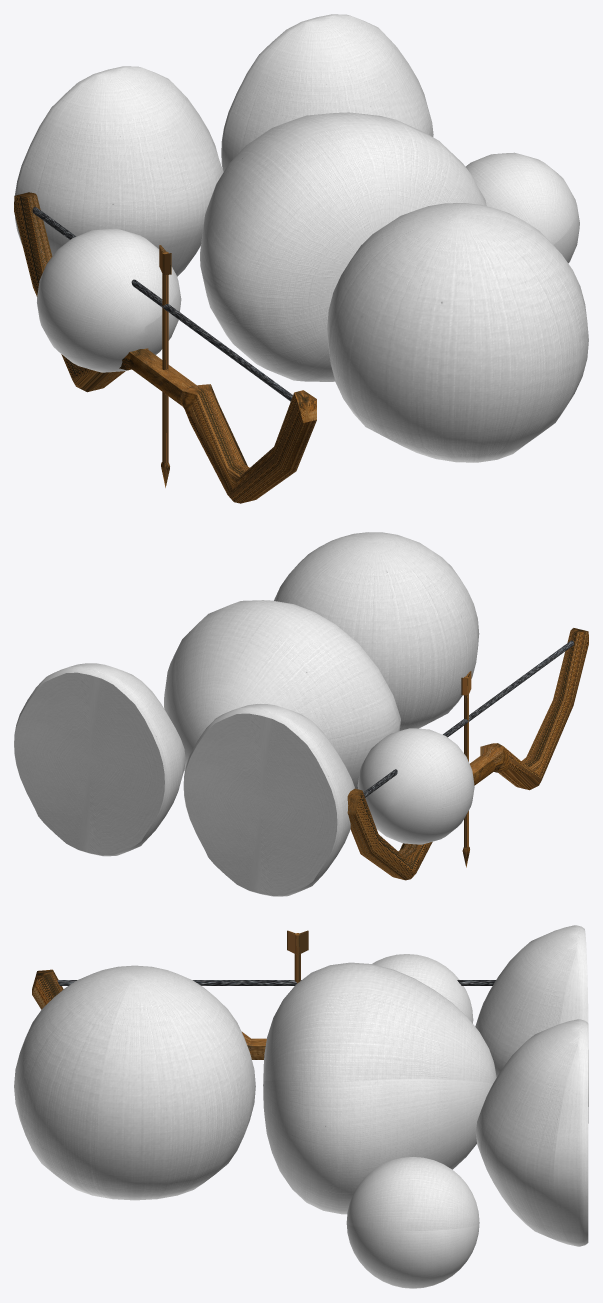
Rendered from char_bow.fbx.
The picture shows the model from 3 angles, top to bottom: view 1: azimuth 30°, elevation 25°; view 2: azimuth 150°, elevation 25°; view 3: azimuth 270°, elevation 25°; orthographic projection. The views are drawn at different scales.
Visible parts, largest first — view 1: polySurface2, polySurface1, polySurface4, polySurface5, polySurface3, Bow:Bow, polySurface6, Bow:bowstring, Bow:Arrow; view 2: polySurface5, polySurface4, polySurface1, polySurface2, polySurface3, Bow:Bow, Bow:bowstring, Bow:Arrow; view 3: polySurface2, polySurface1, polySurface5, polySurface6, polySurface4, polySurface3, Bow:Bow, Bow:bowstring, Bow:Arrow.
Part boxes in pixels (bbox=[...]): polySurface2: bbox=[327, 203, 588, 462]; polySurface1: bbox=[200, 112, 486, 381]; polySurface4: bbox=[15, 66, 223, 276]; polySurface5: bbox=[221, 14, 433, 171]; polySurface3: bbox=[37, 228, 181, 372]; Bow:Bow: bbox=[14, 192, 316, 503]; polySurface6: bbox=[465, 152, 579, 263]; Bow:bowstring: bbox=[32, 207, 292, 401]; Bow:Arrow: bbox=[159, 245, 171, 487]; polySurface5: bbox=[14, 663, 185, 856]; polySurface4: bbox=[183, 704, 354, 896]; polySurface1: bbox=[164, 600, 400, 789]; polySurface2: bbox=[274, 532, 479, 730]; polySurface3: bbox=[357, 728, 474, 844]; Bow:Bow: bbox=[347, 628, 588, 880]; Bow:bowstring: bbox=[363, 640, 573, 797]; Bow:Arrow: bbox=[461, 671, 471, 867]; polySurface2: bbox=[14, 965, 255, 1200]; polySurface1: bbox=[263, 962, 496, 1214]; polySurface5: bbox=[476, 1019, 588, 1246]; polySurface6: bbox=[346, 1157, 479, 1288]; polySurface4: bbox=[475, 925, 588, 1123]; polySurface3: bbox=[372, 954, 473, 1023]; Bow:Bow: bbox=[32, 969, 266, 1059]; Bow:bowstring: bbox=[57, 980, 495, 985]; Bow:Arrow: bbox=[287, 930, 308, 983].
Bounding box in the file's own units: 18.69 × 19.21 × 9.9.
3 materials, 3 textured.
